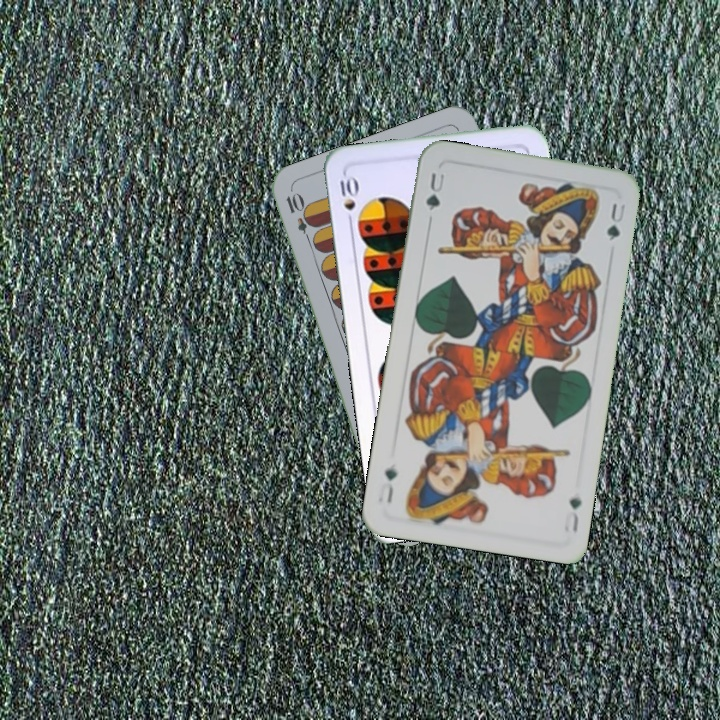E10: (281, 189, 316, 247)
GU: (422, 169, 447, 215), (560, 493, 585, 536)
S10: (335, 170, 360, 229)
